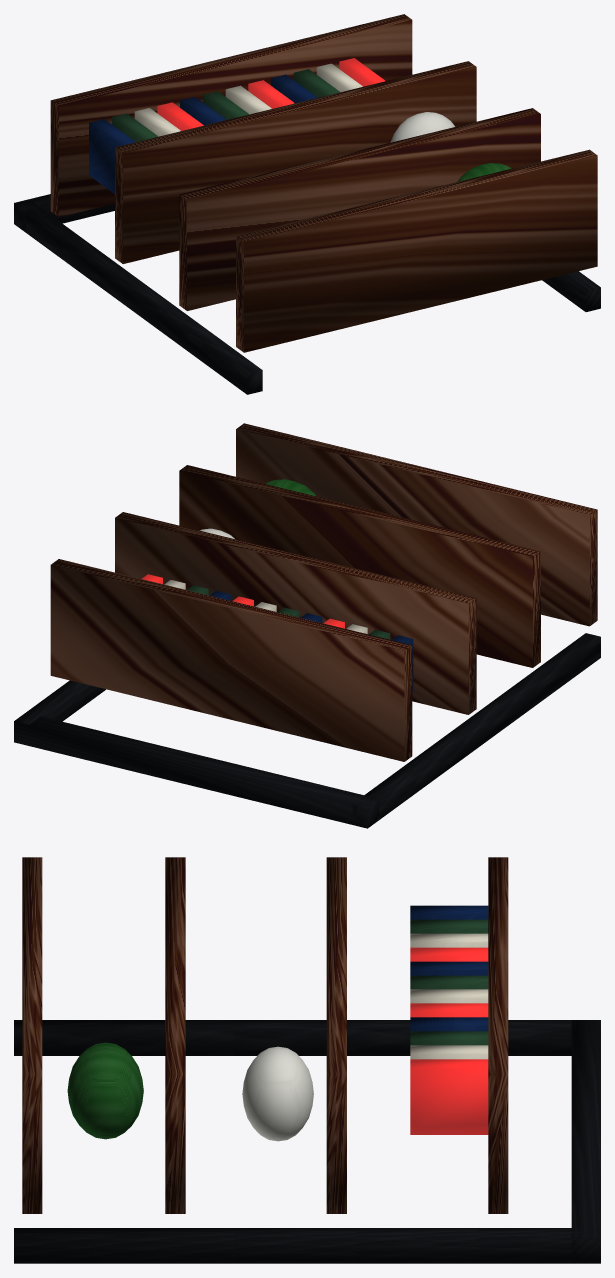
File: LOBBY_DECOR_SHELF_001.glb
3 views of the same model, one above another, from view 1: azimuth 30°, elevation 25°; view 2: azimuth 150°, elevation 25°; view 3: azimuth 270°, elevation 25° (orthographic). The views are drawn at different scales.
Parts seen in each view (by area): view 1: wood_shelf_006, wood_shelf_004, wood_shelf_005, wood_shelf_003, side_frame_001, shelf_book_007, side_frame_002, bottom_bar_000, decor_vase_019, shelf_book_012, shelf_book_016, shelf_book_009 (+8 smaller); view 2: wood_shelf_003, wood_shelf_005, wood_shelf_004, wood_shelf_006, bottom_bar_000, side_frame_001, side_frame_002; view 3: side_frame_002, side_frame_001, wood_shelf_003, wood_shelf_004, wood_shelf_005, wood_shelf_006, bottom_bar_000, shelf_book_018, shelf_plant_020, decor_vase_019, shelf_book_007, shelf_book_008 (+9 smaller).
Part boxes in pixels (x1,y1,x2,y2): wood_shelf_006: [236, 149, 597, 352]; wood_shelf_004: [115, 61, 476, 263]; wood_shelf_005: [179, 108, 540, 310]; wood_shelf_003: [50, 14, 412, 216]; side_frame_001: [14, 199, 262, 394]; shelf_book_007: [89, 119, 134, 193]; side_frame_002: [542, 271, 600, 311]; bottom_bar_000: [14, 194, 114, 231]; decor_vase_019: [390, 112, 454, 142]; shelf_book_012: [202, 91, 248, 119]; shelf_book_016: [293, 69, 339, 97]; shelf_book_009: [134, 108, 180, 136]; wood_shelf_003: [50, 559, 412, 761]; wood_shelf_005: [179, 465, 540, 667]; wood_shelf_004: [115, 512, 476, 714]; wood_shelf_006: [236, 423, 597, 626]; bottom_bar_000: [14, 716, 379, 828]; side_frame_001: [352, 633, 600, 827]; side_frame_002: [14, 680, 105, 742]; side_frame_002: [14, 1228, 600, 1263]; side_frame_001: [14, 1020, 600, 1055]; wood_shelf_003: [488, 857, 508, 1213]; wood_shelf_004: [326, 857, 346, 1213]; wood_shelf_005: [165, 857, 185, 1213]; wood_shelf_006: [22, 857, 42, 1213]; bottom_bar_000: [571, 1020, 600, 1263]; shelf_book_018: [410, 1059, 488, 1134]; shelf_plant_020: [67, 1042, 143, 1139]; decor_vase_019: [242, 1046, 313, 1141]; shelf_book_007: [410, 905, 488, 919]; shelf_book_008: [410, 919, 488, 933].
Size of the model in its own units: 1.4 by 0.57 by 1.6.
Materials: 8 (8 with a texture image).
